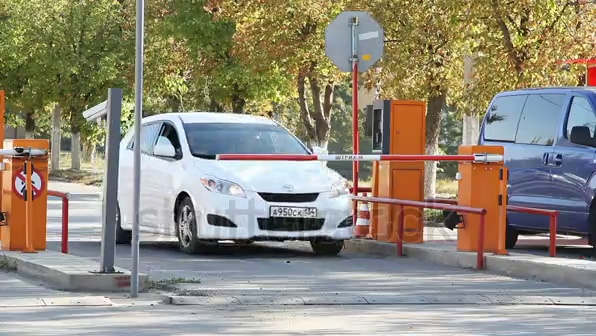licenseplate: (265, 197, 320, 219)
